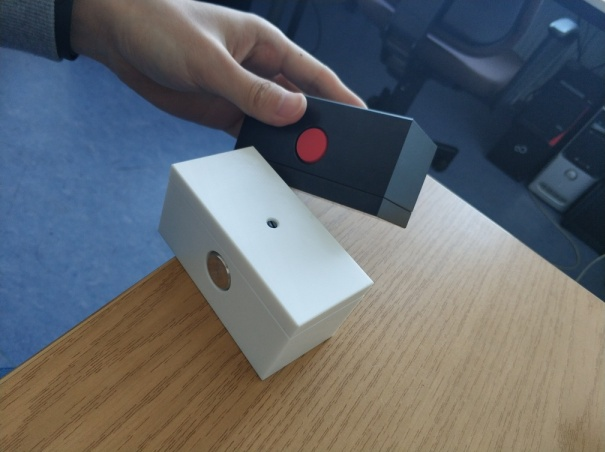black+black+red: (231, 93, 439, 231)
white+white+silver: (154, 145, 377, 382)
